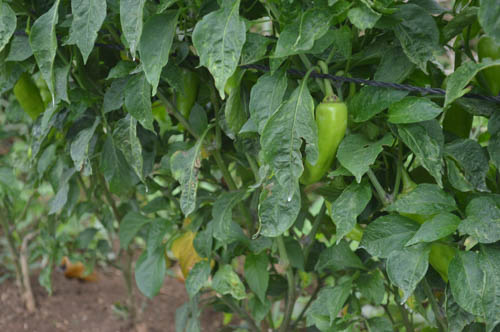ChiliPepper: (306, 102, 347, 181), (168, 69, 196, 132)
